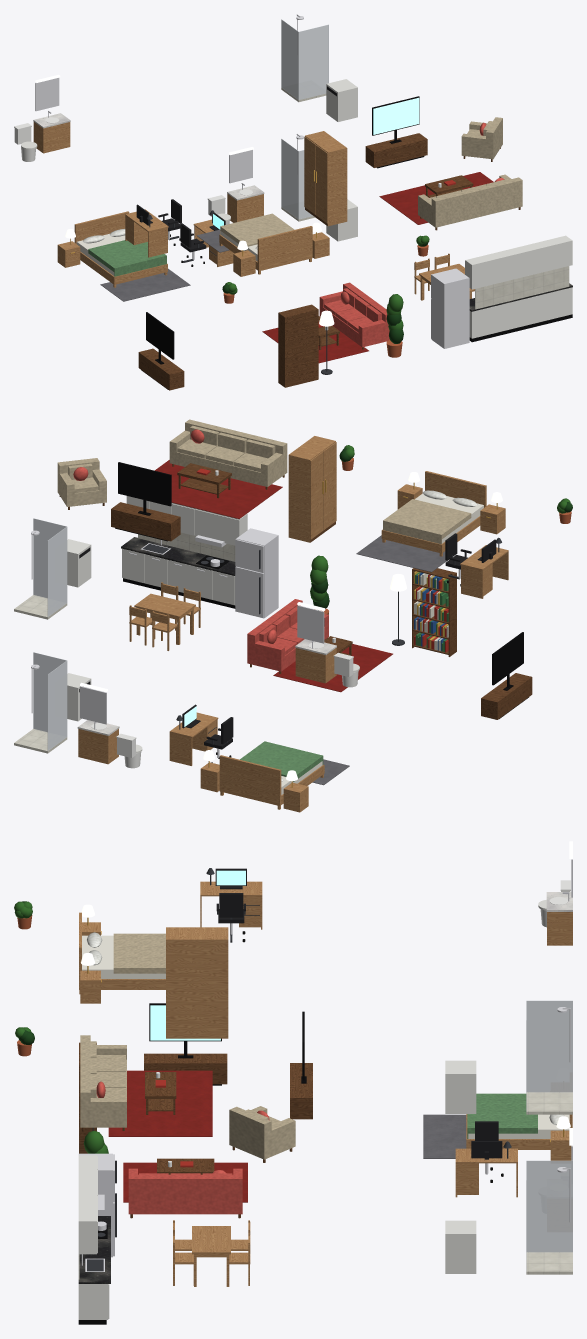
The model's file is i_malibu_beach_house.gltf.
3 renders of one model, top to bottom at view 1: azimuth 30°, elevation 25°; view 2: azimuth 150°, elevation 25°; view 3: azimuth 270°, elevation 25°, orthographic. The views are drawn at different scales.
Visible parts, largest first — view 1: I_malibu_beach_house; view 2: I_malibu_beach_house; view 3: I_malibu_beach_house.
Boxes of the visible parts, x1=… form: I_malibu_beach_house: x1=14, y1=14, x2=572, y2=390; I_malibu_beach_house: x1=14, y1=419, x2=572, y2=812; I_malibu_beach_house: x1=14, y1=841, x2=572, y2=1324.
Bounding box in the file's own units: 11.3 × 5.5 × 10.77.
Materials: 33 (12 with a texture image).
